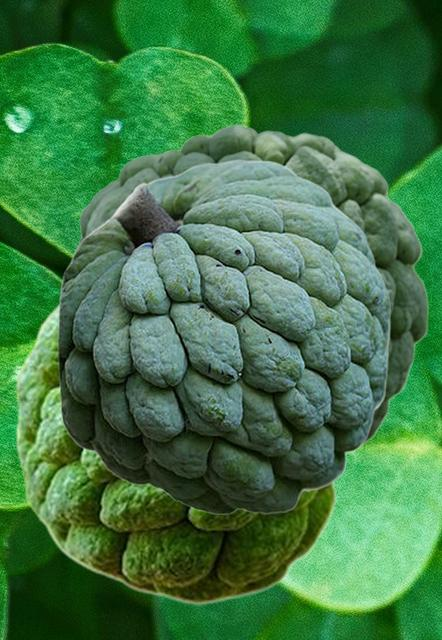atis: (57, 159, 390, 514), (71, 124, 428, 453), (15, 301, 340, 604)
